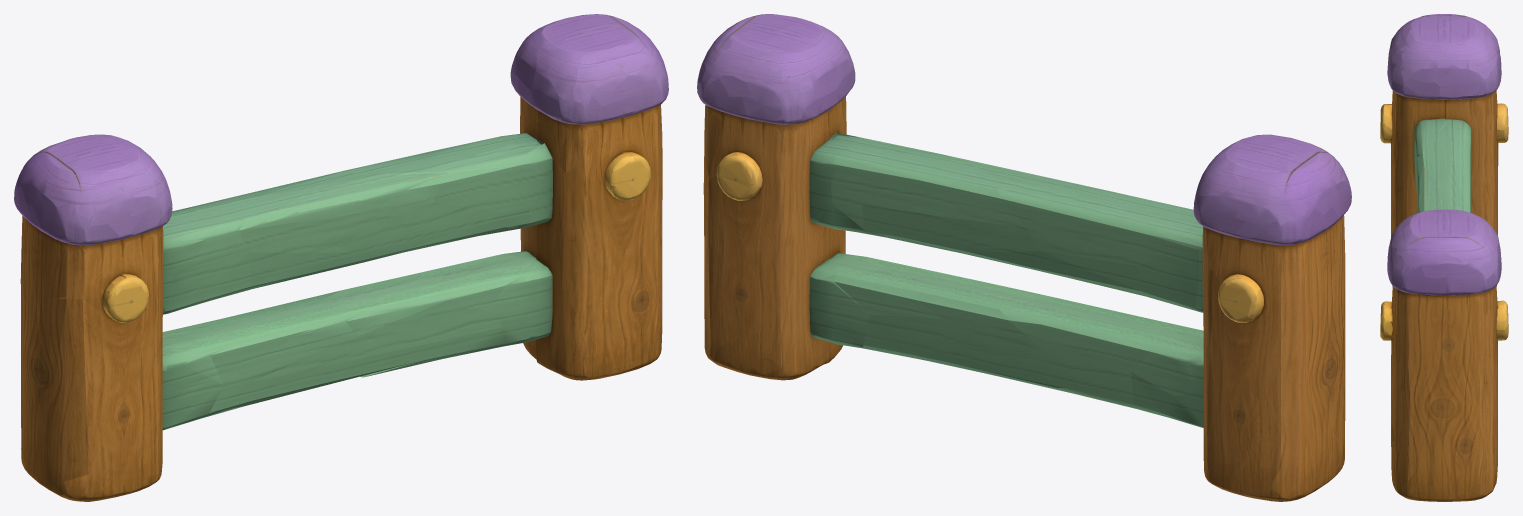
3 views of the same model, side by side, from view 1: azimuth 30°, elevation 25°; view 2: azimuth 150°, elevation 25°; view 3: azimuth 270°, elevation 25° (orthographic). The views are drawn at different scales.
Visible parts, largest first — view 1: island-fence-v1-1; view 2: island-fence-v1-1; view 3: island-fence-v1-1.
Part boxes in pixels (left/top/right/bottom): island-fence-v1-1: left=14, top=14, right=668, bottom=501; island-fence-v1-1: left=697, top=14, right=1351, bottom=501; island-fence-v1-1: left=1380, top=14, right=1508, bottom=501.
Size of the model in its own units: 1.69 by 0.85 by 0.3784.
1 material, 1 textured.
